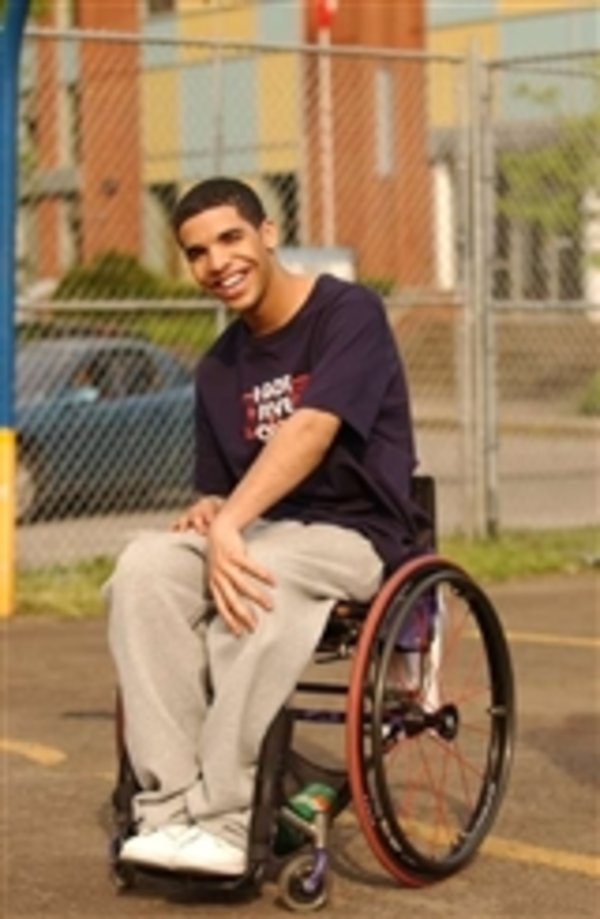person: (89, 169, 465, 528)
wheelchair: (95, 542, 527, 896)
